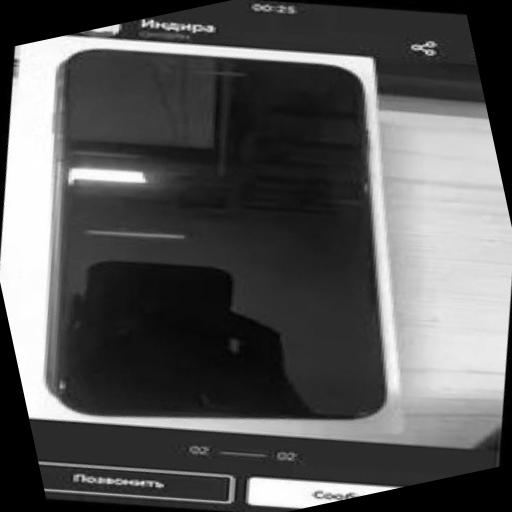phone: (42, 41, 397, 427)
